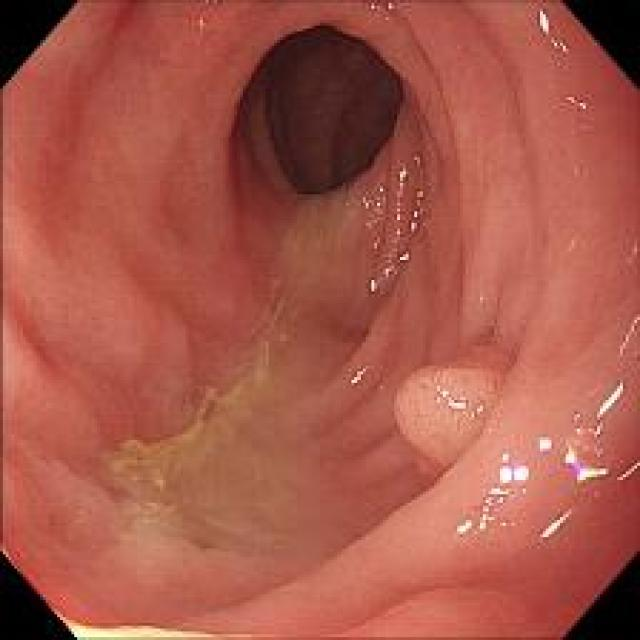color misalignment: (565, 448, 604, 484)
contrast: (258, 24, 409, 204)
specularity: (394, 162, 434, 245), (456, 482, 510, 540), (364, 245, 411, 299), (535, 6, 578, 56), (560, 448, 609, 484), (496, 452, 536, 488), (431, 382, 474, 415), (358, 181, 385, 229), (540, 498, 571, 539), (592, 379, 622, 420), (616, 315, 638, 361), (615, 456, 639, 488), (348, 364, 375, 392), (565, 92, 588, 114), (535, 434, 552, 454), (469, 404, 485, 421), (570, 411, 584, 422)
